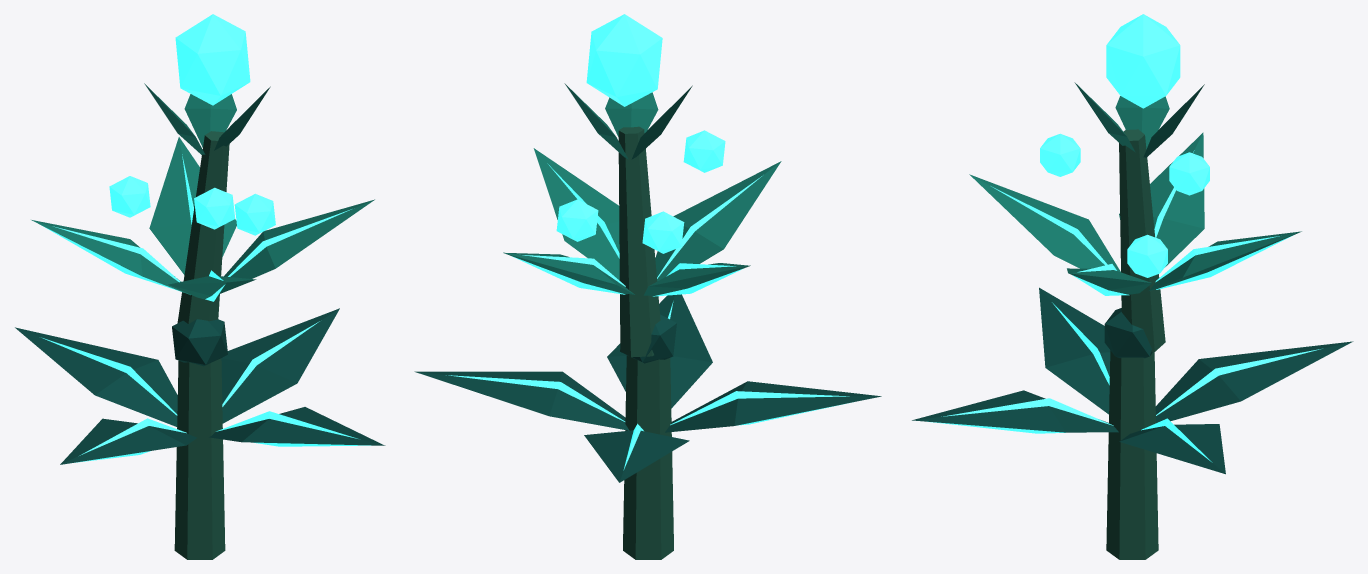
File: cyber_plant_stage2.glb
The picture shows the model from 3 angles, left to right: view 1: azimuth 30°, elevation 25°; view 2: azimuth 150°, elevation 25°; view 3: azimuth 270°, elevation 25°; orthographic projection. The views are drawn at different scales.
Visible parts, largest first — view 1: cyber_plant_stage2; view 2: cyber_plant_stage2; view 3: cyber_plant_stage2.
Part boxes in pixels (x1,y1,x2,y2): cyber_plant_stage2: (15,14,385,559); cyber_plant_stage2: (414,14,881,559); cyber_plant_stage2: (912,14,1353,559).
Size of the model in its own units: 0.4064 by 0.553 by 0.4064.
